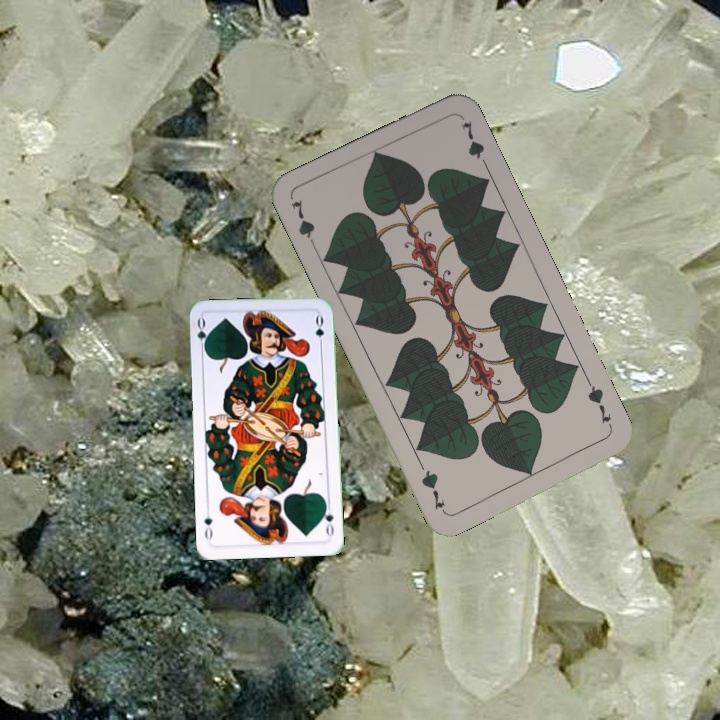G7: (286, 195, 319, 253), (583, 376, 615, 432)
GO: (193, 315, 211, 355), (319, 499, 336, 539)
